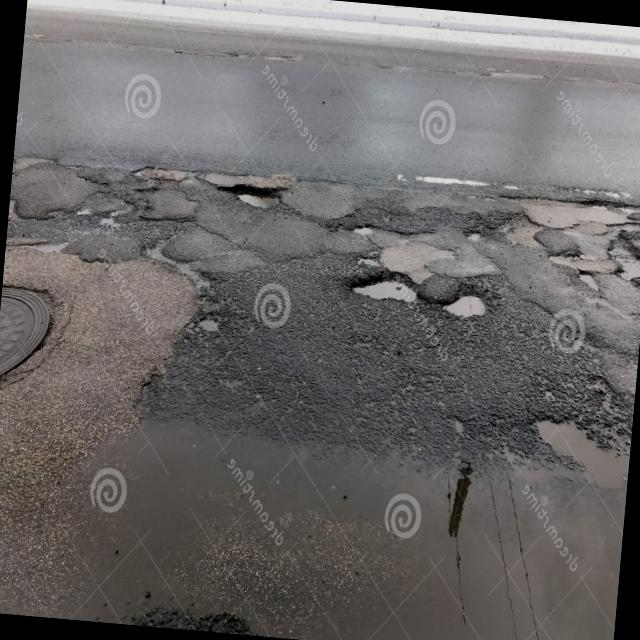bad-road: (4, 154, 200, 268), (499, 192, 640, 296), (524, 414, 632, 470), (214, 178, 286, 211), (348, 269, 421, 300), (439, 289, 490, 321), (227, 49, 290, 65)
